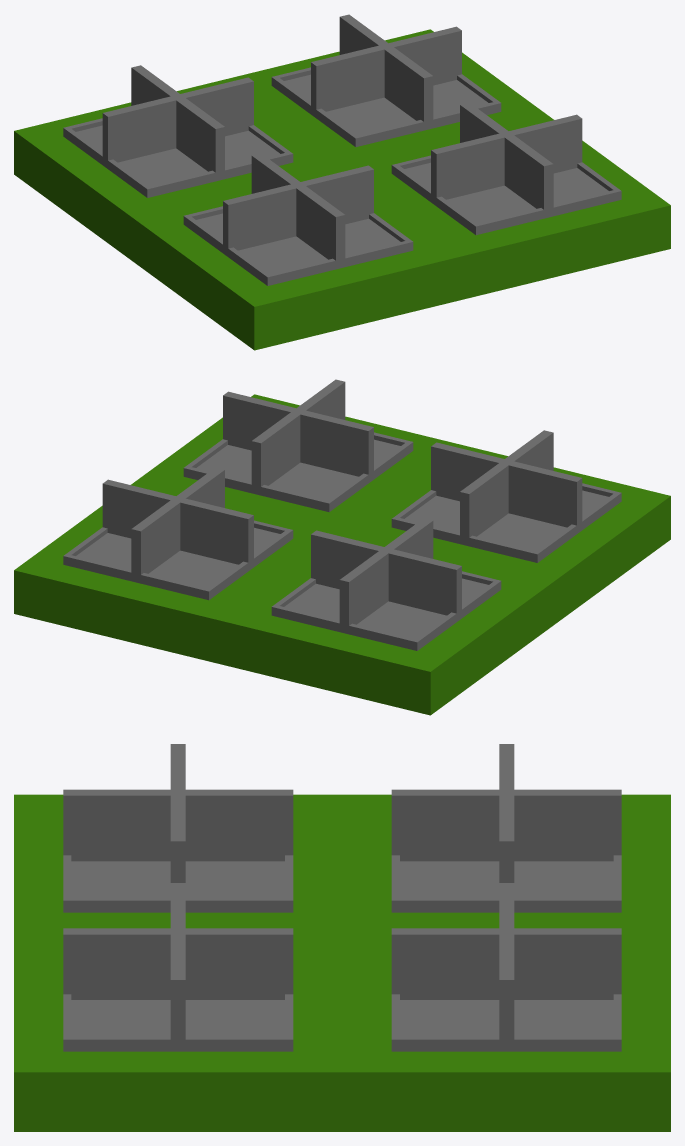
The model's file is Storage.obj.
3 renders of one model, top to bottom at view 1: azimuth 30°, elevation 25°; view 2: azimuth 150°, elevation 25°; view 3: azimuth 270°, elevation 25°, orthographic. The views are drawn at different scales.
Visible parts, largest first — view 1: Tilebase101, Plane005, Plane003, Plane002, Plane004; view 2: Tilebase101, Plane004, Plane002, Plane003, Plane005; view 3: Tilebase101, Plane004, Plane005, Plane002, Plane003.
Boxes of the visible parts, x1,y1,x2,y2 form: Tilebase101: [14, 29, 670, 350]; Plane005: [391, 102, 621, 235]; Plane003: [183, 153, 413, 285]; Plane002: [63, 65, 293, 197]; Plane004: [271, 14, 501, 146]; Tilebase101: [14, 394, 670, 715]; Plane004: [63, 467, 293, 600]; Plane002: [271, 518, 501, 650]; Plane003: [391, 430, 621, 562]; Plane005: [183, 379, 413, 511]; Tilebase101: [14, 794, 670, 1131]; Plane004: [391, 883, 621, 1051]; Plane005: [63, 883, 293, 1051]; Plane002: [391, 744, 621, 912]; Plane003: [63, 744, 293, 912].
Size of the model in its own units: 10 by 2.2 by 10.
